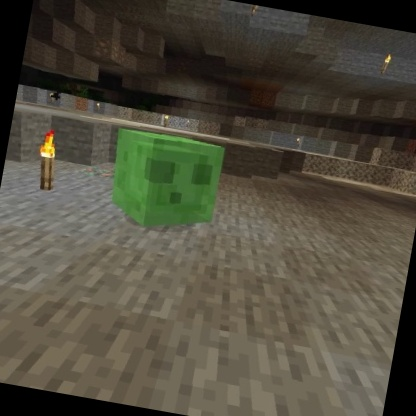slime: (97, 122, 233, 243)
